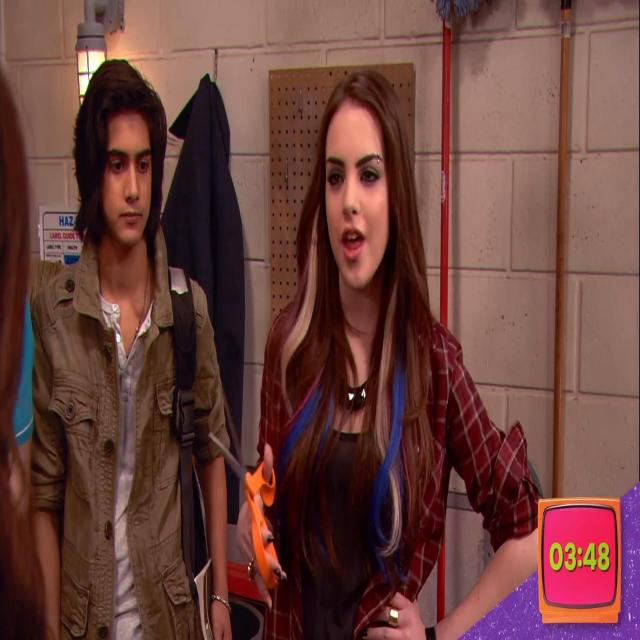scissor: (208, 395, 281, 589)
